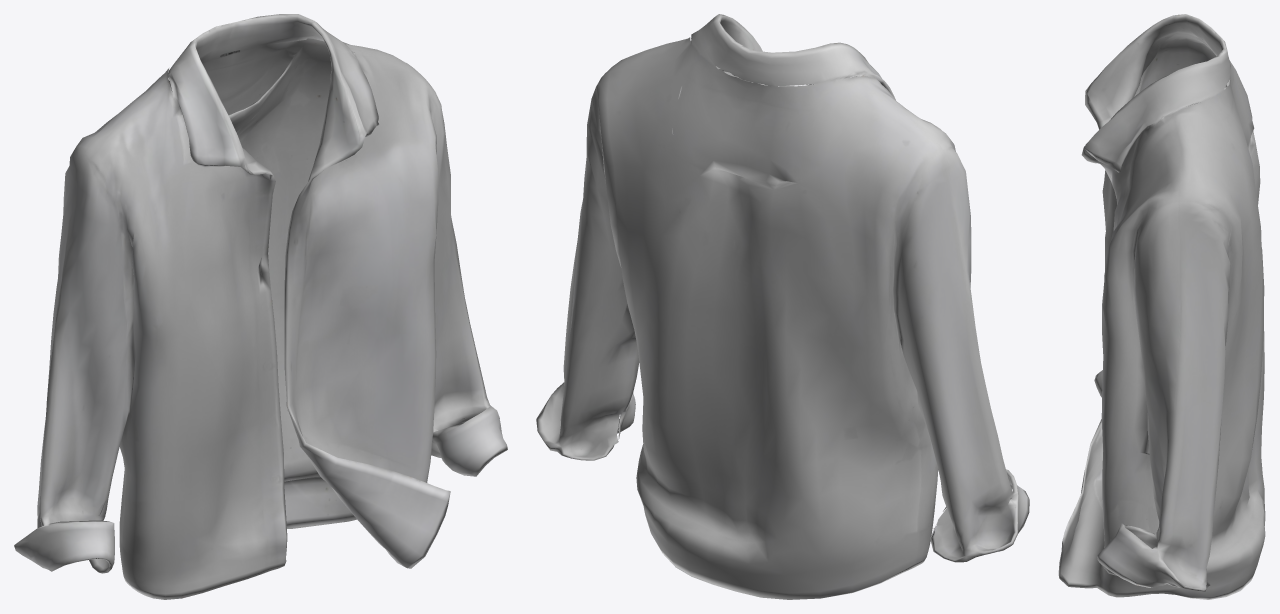
File: white shirt 3d model.glb
3 renders of one model, left to right at view 1: azimuth 30°, elevation 25°; view 2: azimuth 150°, elevation 25°; view 3: azimuth 270°, elevation 25°, orthographic. The views are drawn at different scales.
Visible parts, largest first — view 1: tripo_node_6a7ed3c9; view 2: tripo_node_6a7ed3c9; view 3: tripo_node_6a7ed3c9.
Part boxes in pixels (bbox=[...]): tripo_node_6a7ed3c9: bbox=[14, 14, 507, 599]; tripo_node_6a7ed3c9: bbox=[536, 14, 1029, 599]; tripo_node_6a7ed3c9: bbox=[1058, 14, 1265, 599].
Bounding box in the file's own units: 90.11 × 97.27 × 35.1.
Materials: 1 (1 with a texture image).
